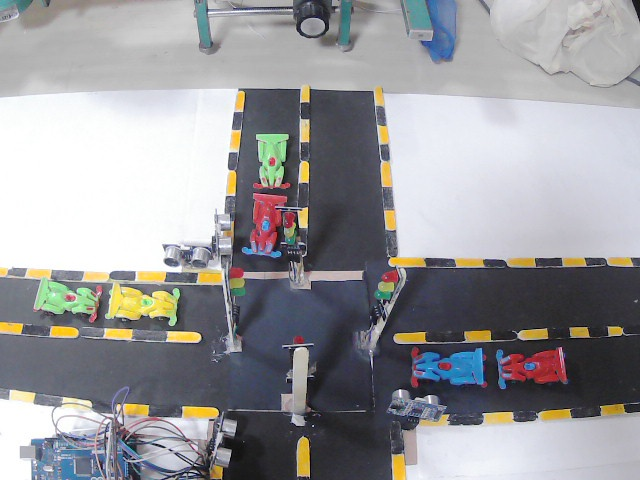car: (408, 347, 498, 396), (491, 347, 588, 392), (38, 272, 107, 325), (248, 127, 302, 193), (104, 283, 182, 321), (249, 183, 284, 262)
traffic_light: (218, 264, 261, 312), (278, 204, 312, 259), (375, 269, 404, 319), (282, 334, 314, 354)
uno_breadboard: (30, 419, 149, 480), (394, 382, 471, 437), (193, 413, 254, 475), (157, 234, 217, 272), (201, 209, 242, 256)
